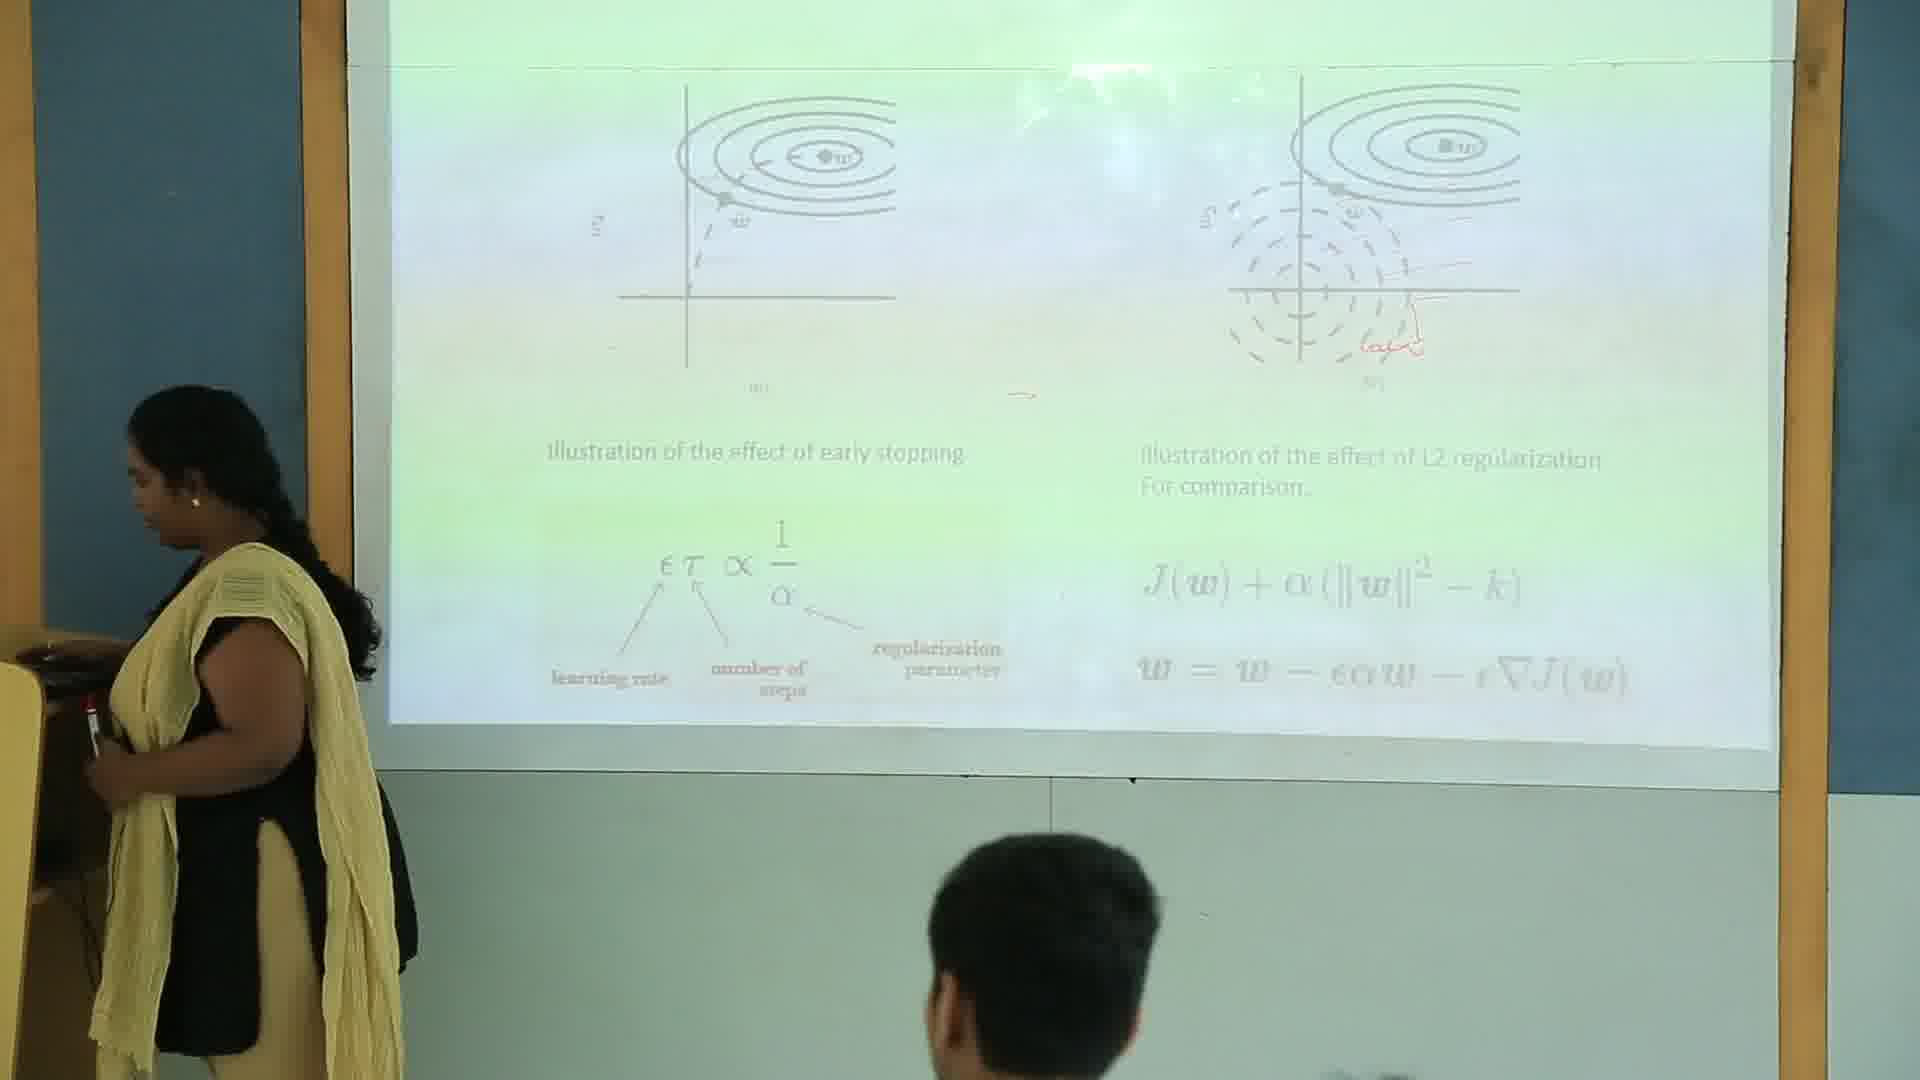eq: (1125, 642, 1638, 707), (1131, 546, 1535, 624), (653, 514, 804, 611)
fig: (582, 76, 914, 402)
